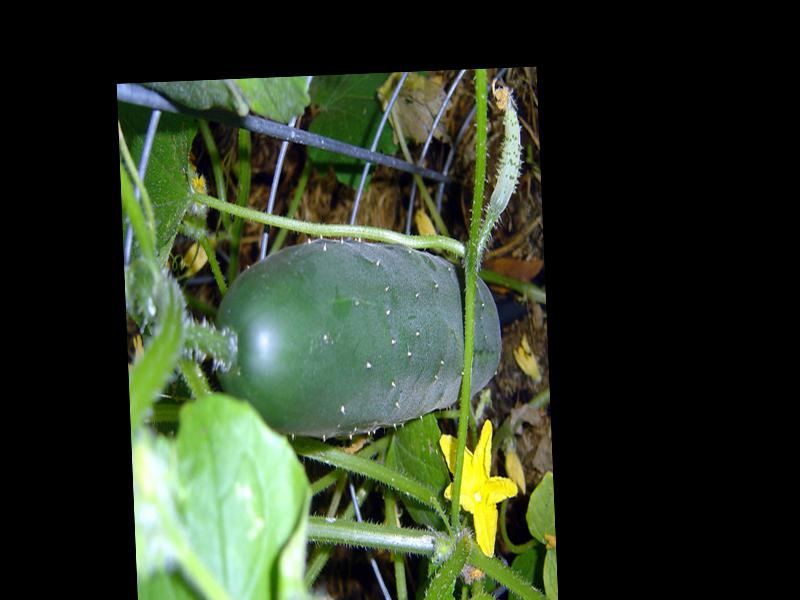Cucumber: (210, 229, 503, 440)
